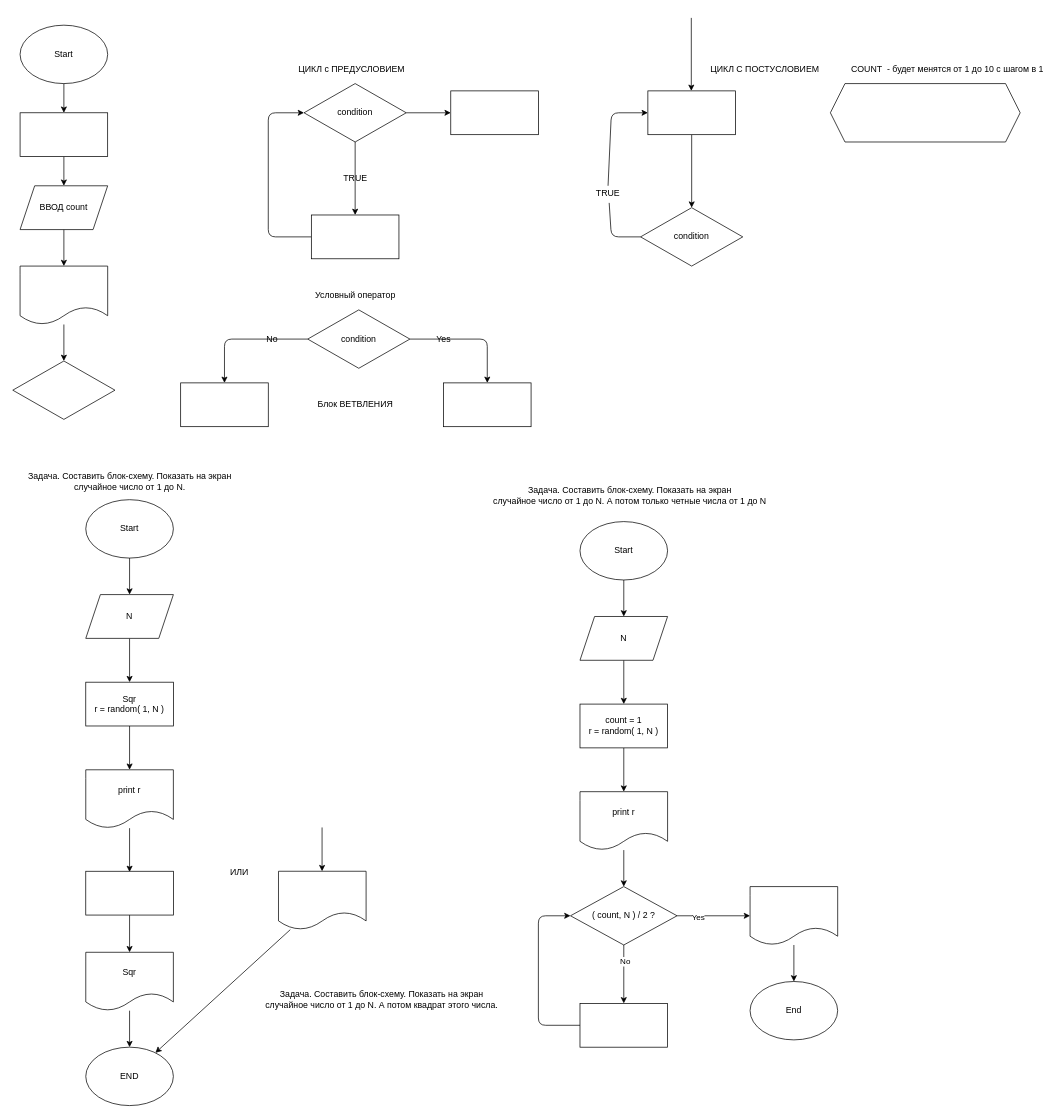
Image size: 1062x1118. Some labels were removed from this diagram. Here are the shapes that lost their labels. From the top down, the centre of each, then its label:
At [925,112]: "count = 1, 10, 1".
At [63,134]: "count = 0 res = 1 * Sqrt (2)".
At [63,294]: "ВЫВОД print (res)".
At [129,893]: "Sqr = r * r".
At [322,900]: "math.pow ( r,2 )".
At [793,915]: "Print.all.numbers".
At [623,1025]: "count+ = 1".
